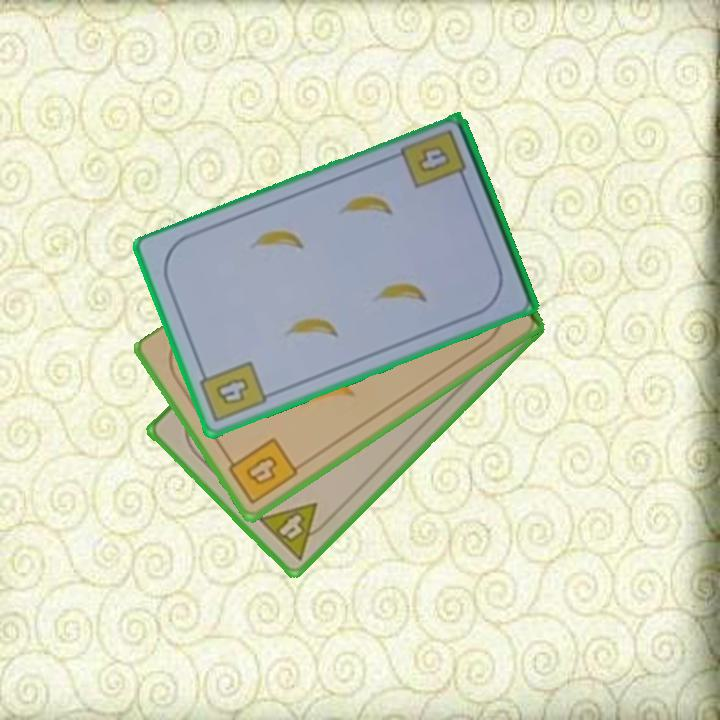4b: (221, 434, 301, 508), (195, 357, 270, 426), (397, 126, 470, 192)
4p: (254, 499, 335, 563)
